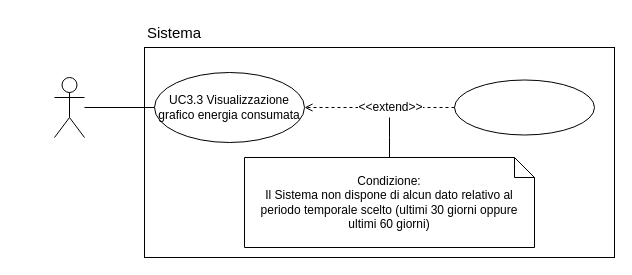
Some shapes in this 632 by 275 pixel diagram are drawn without their labels. Here are the shapes that lost their labels. From the top down, the centre of each, then its label:
(x=69, y=107): Operatore Sanitario
(x=524, y=107): UC7 Errore dati insufficienti
